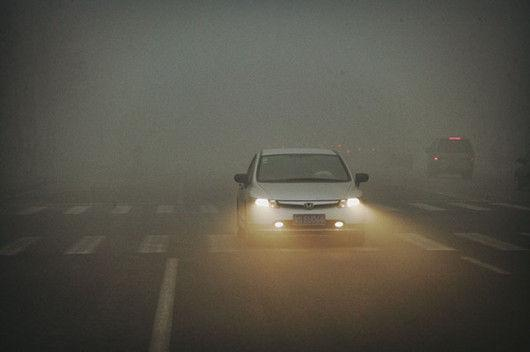car: (233, 147, 371, 249), (425, 135, 475, 179)
